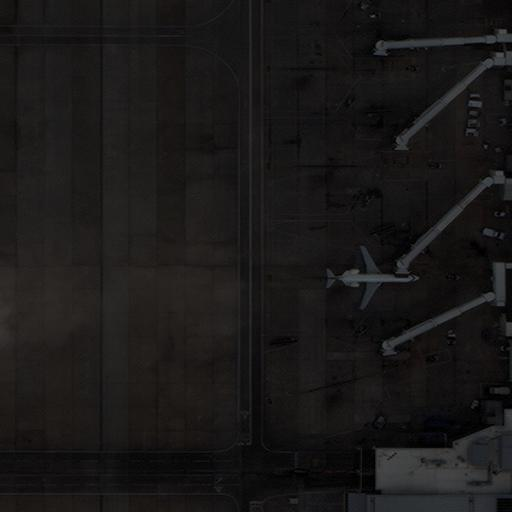Medium Civil Transport: (323, 245, 422, 310)
